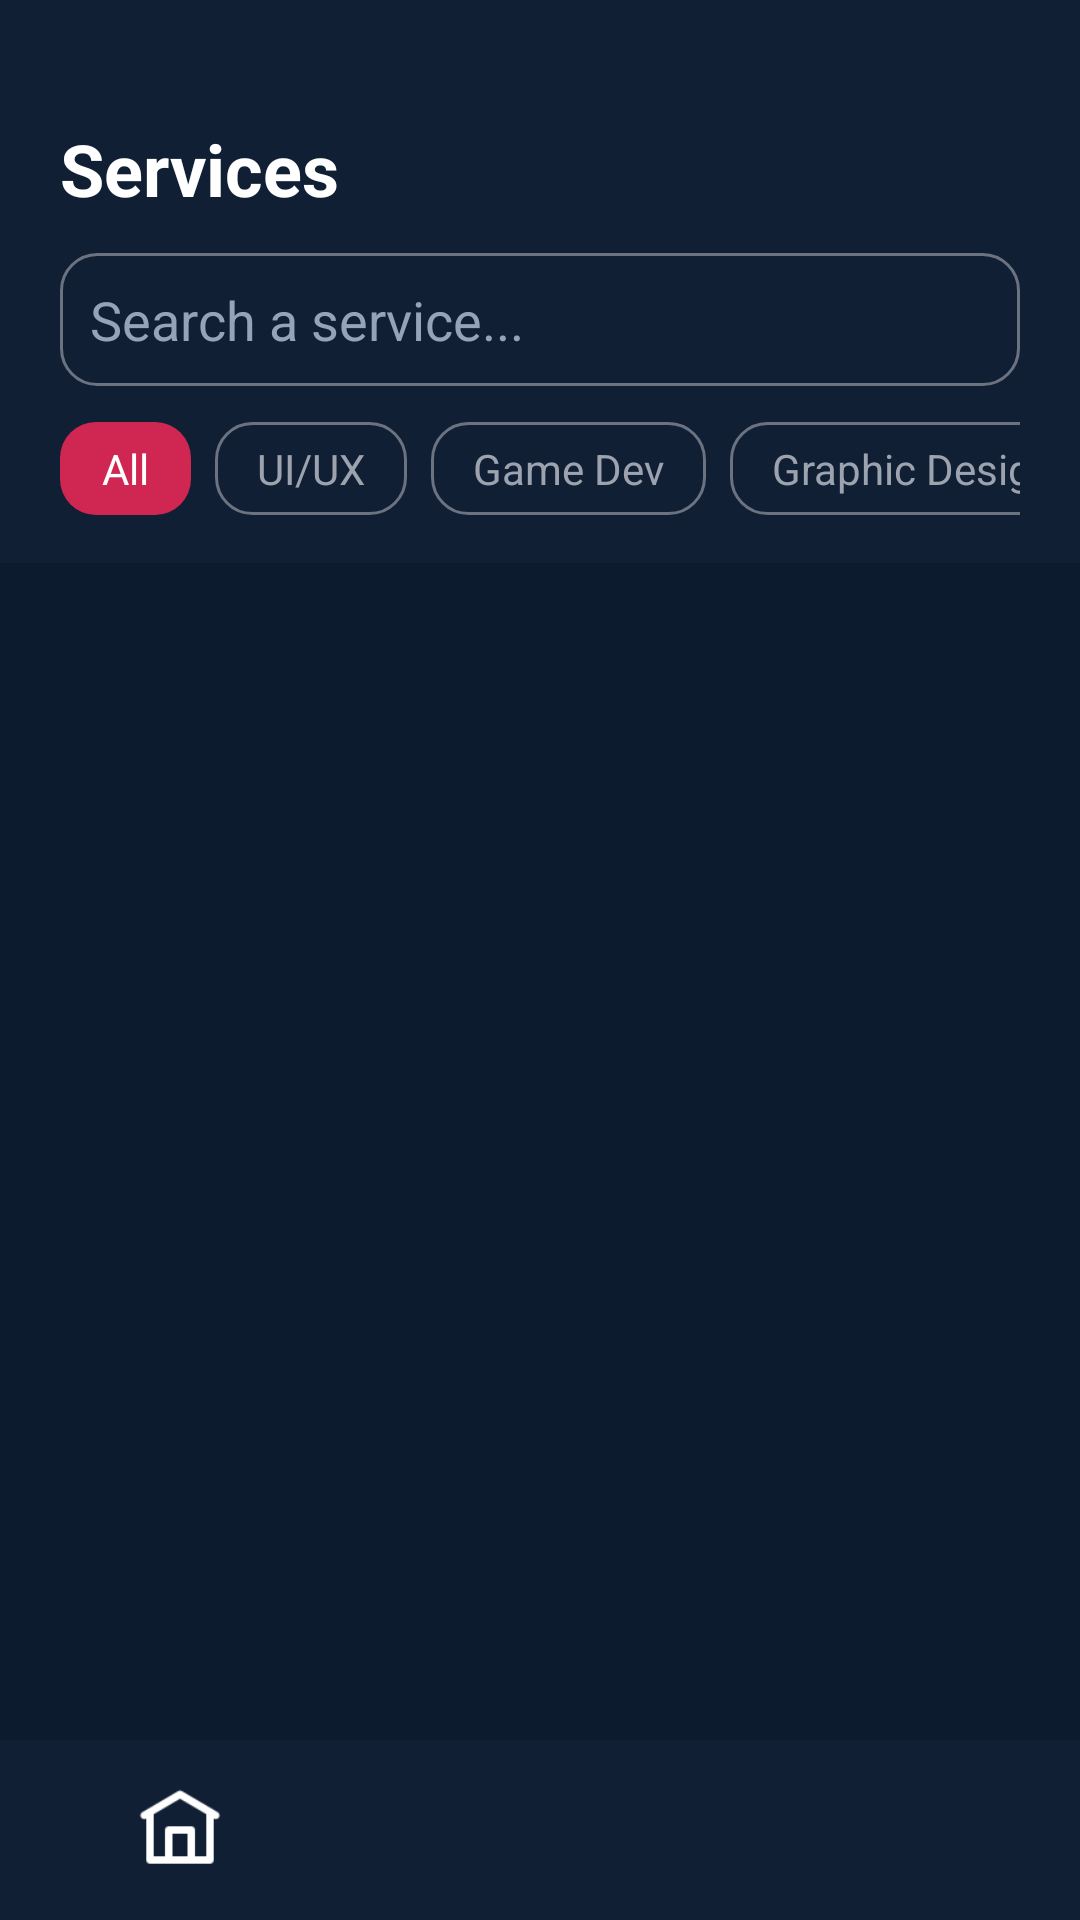

Icons on this 1080px x 1920px Android screen, each with the point to tap as (x=x, y=y):
home: (x=180, y=1827)
